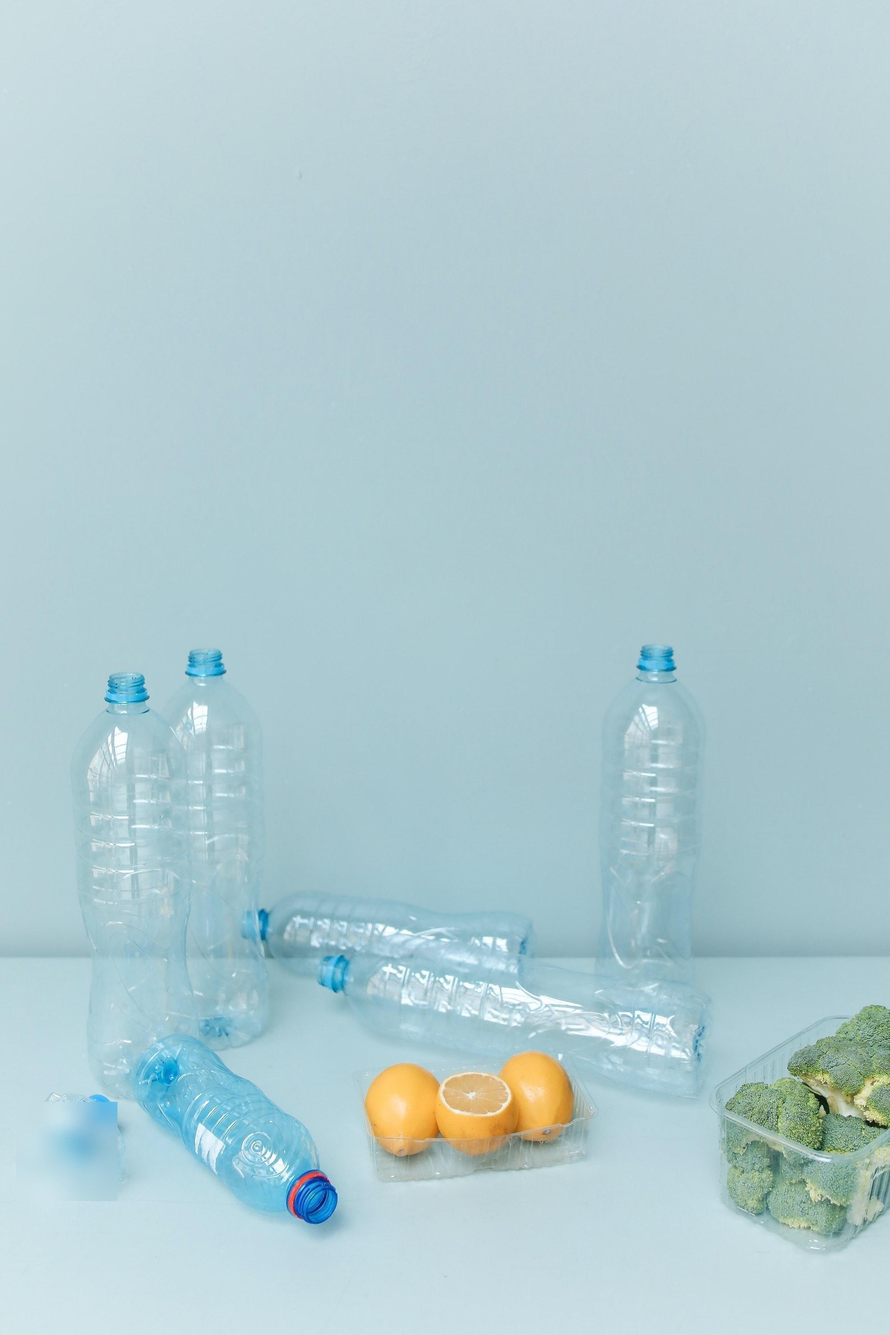bottle-plastic: (312, 941, 716, 1104), (158, 644, 284, 1044), (76, 667, 194, 1091), (126, 1033, 338, 1238), (591, 637, 712, 978), (237, 892, 540, 1005)
